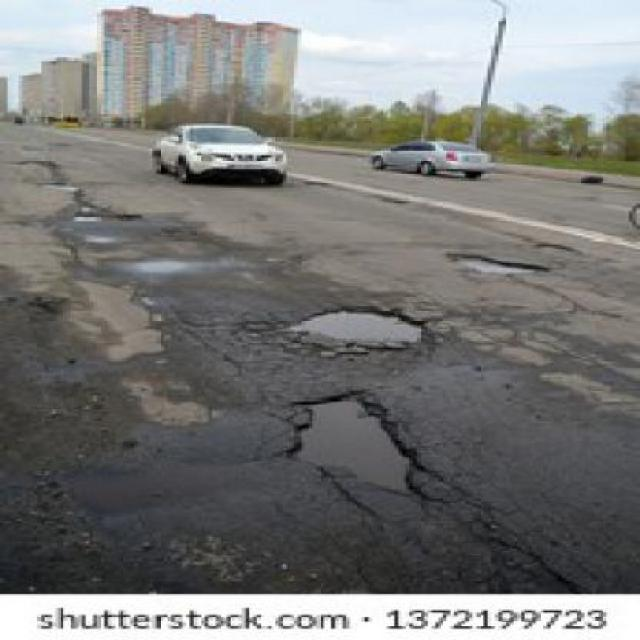Pothole: (279, 389, 438, 502), (301, 302, 442, 352), (453, 246, 560, 282)
